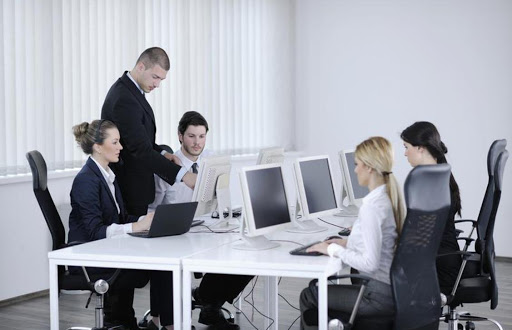Person: (299, 136, 405, 330), (66, 119, 155, 330), (100, 46, 198, 215), (400, 120, 462, 283), (148, 111, 209, 213)
